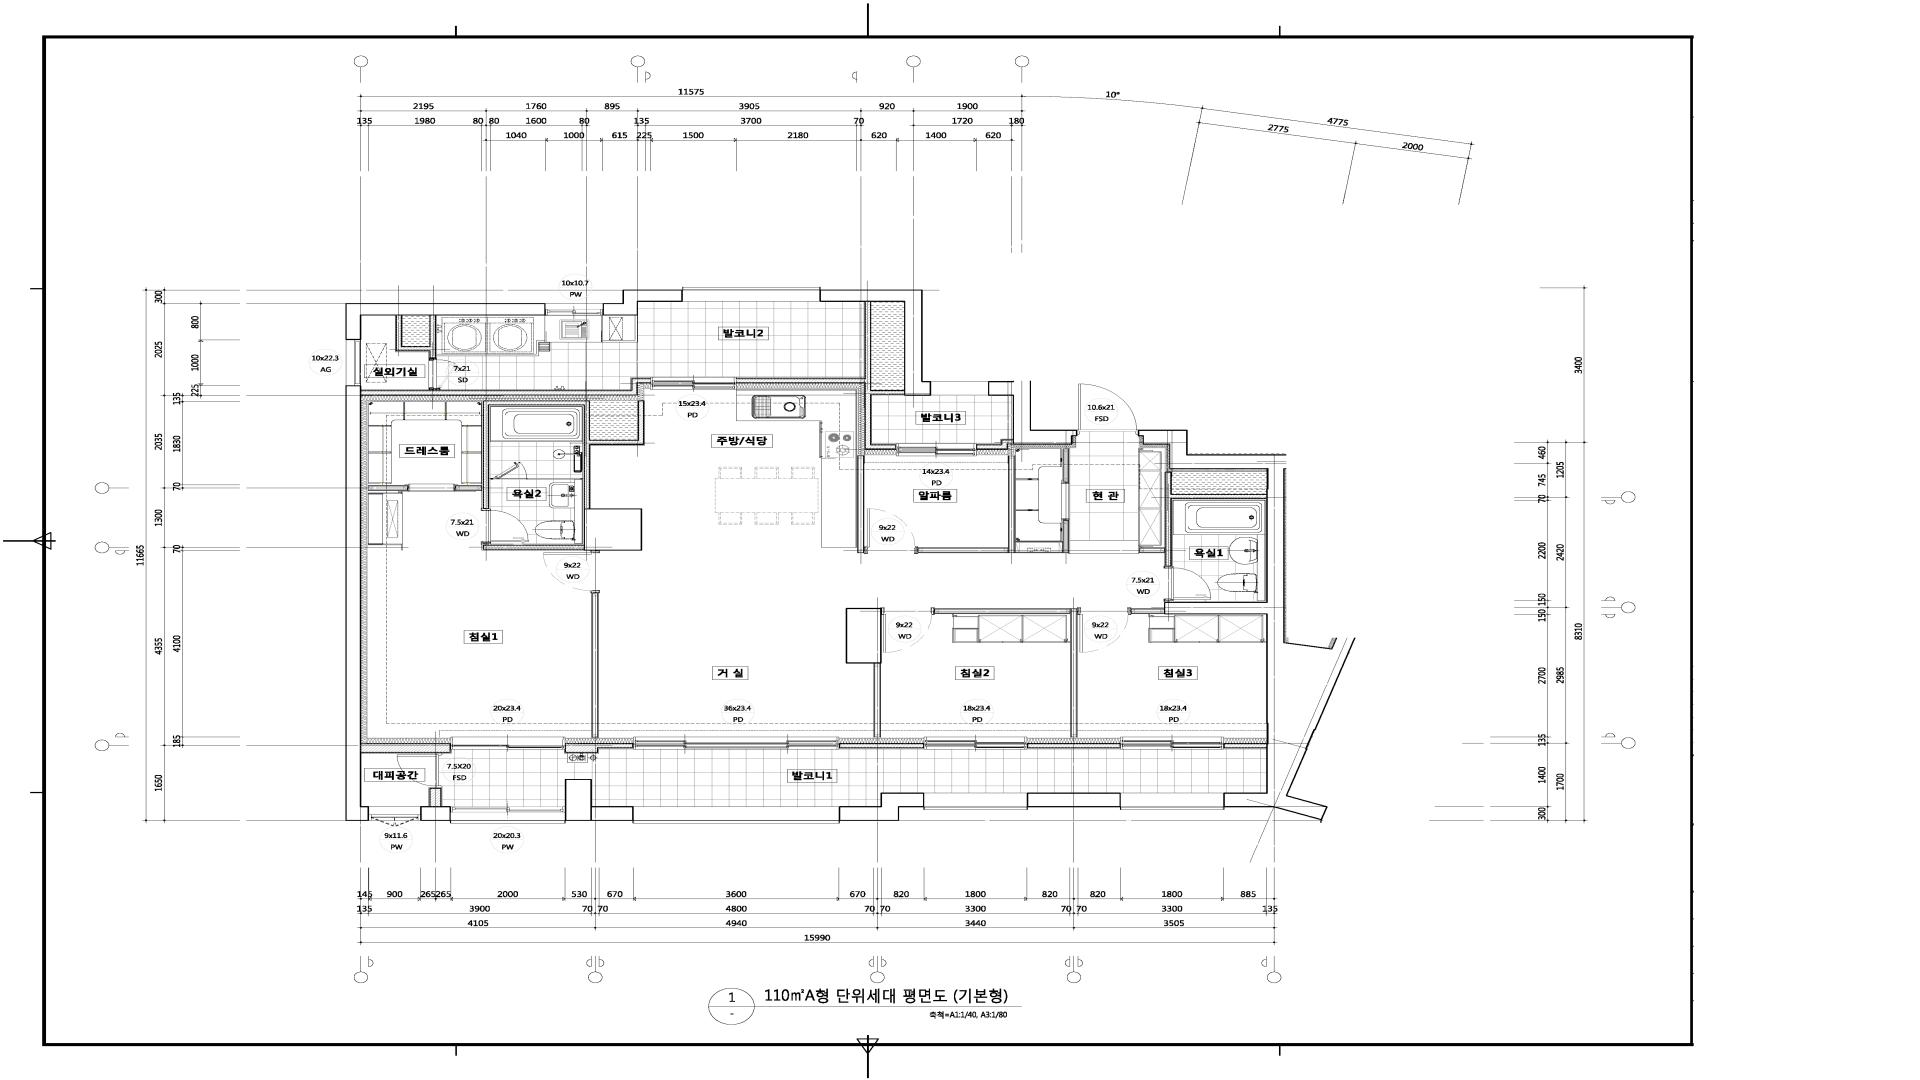door: (1077, 384, 1138, 436), (1077, 608, 1131, 653), (881, 608, 935, 653), (864, 509, 918, 553), (543, 550, 599, 592), (397, 753, 442, 789), (483, 509, 529, 543), (1166, 567, 1211, 600), (429, 359, 456, 390), (491, 462, 527, 480), (409, 484, 455, 492), (1062, 483, 1069, 520)
wall: (1138, 430, 1284, 807), (455, 401, 644, 551), (737, 302, 905, 450), (935, 609, 1077, 737), (918, 455, 1068, 553), (1139, 472, 1267, 567), (820, 290, 931, 396), (345, 385, 369, 820), (345, 303, 546, 340), (988, 381, 1077, 444), (361, 378, 650, 396), (845, 608, 882, 737), (564, 779, 633, 820), (840, 793, 923, 820), (603, 290, 682, 315), (396, 315, 436, 359), (1027, 793, 1120, 807), (592, 592, 599, 737), (361, 744, 451, 753), (564, 742, 633, 753), (857, 455, 864, 553), (1027, 742, 1121, 748), (839, 742, 924, 748), (421, 806, 450, 820), (976, 439, 1013, 450), (1063, 448, 1069, 483), (1224, 742, 1266, 748), (430, 787, 442, 806), (368, 485, 409, 491), (1131, 609, 1164, 615), (1166, 600, 1171, 603)
window: (633, 806, 840, 823), (633, 737, 839, 749), (682, 287, 820, 302), (450, 806, 566, 823), (923, 793, 1029, 810), (1120, 793, 1224, 810), (451, 737, 564, 749), (924, 737, 1027, 749), (1121, 737, 1224, 749), (369, 806, 421, 827), (897, 443, 976, 456), (650, 377, 737, 389), (931, 381, 988, 396), (345, 340, 361, 385), (546, 303, 603, 315)
